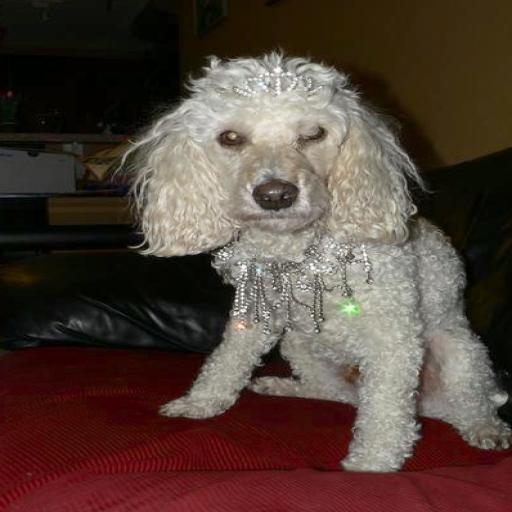dog_face: (133, 58, 412, 254)
